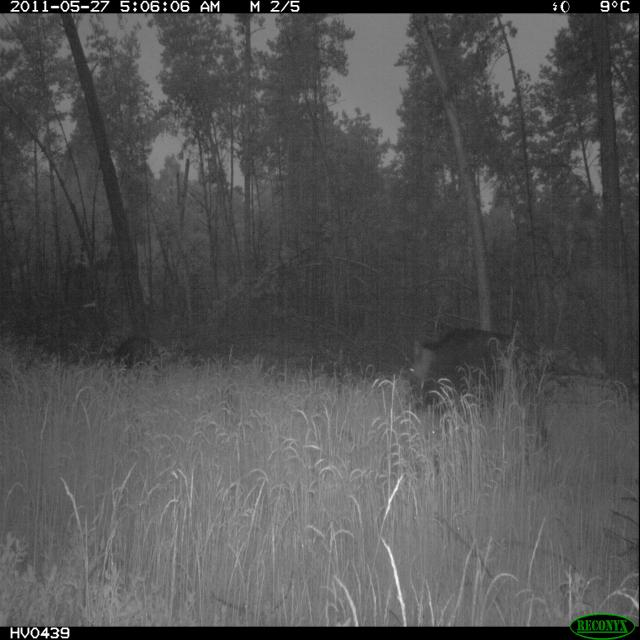boar: (388, 298, 573, 448), (96, 314, 171, 397)
